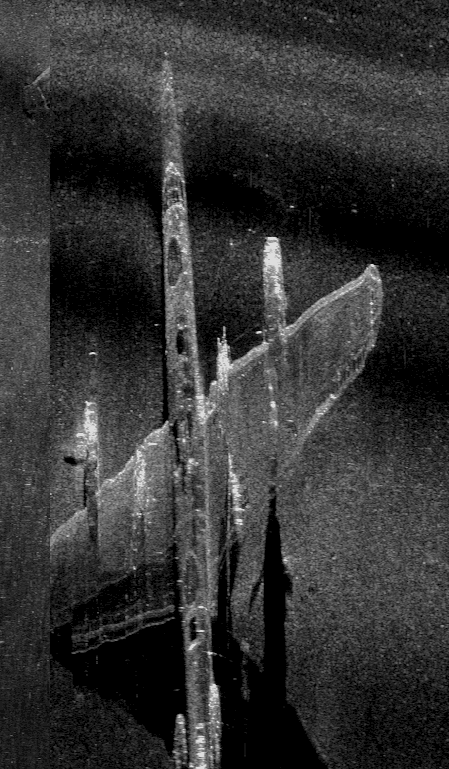plane: (51, 63, 381, 763)
